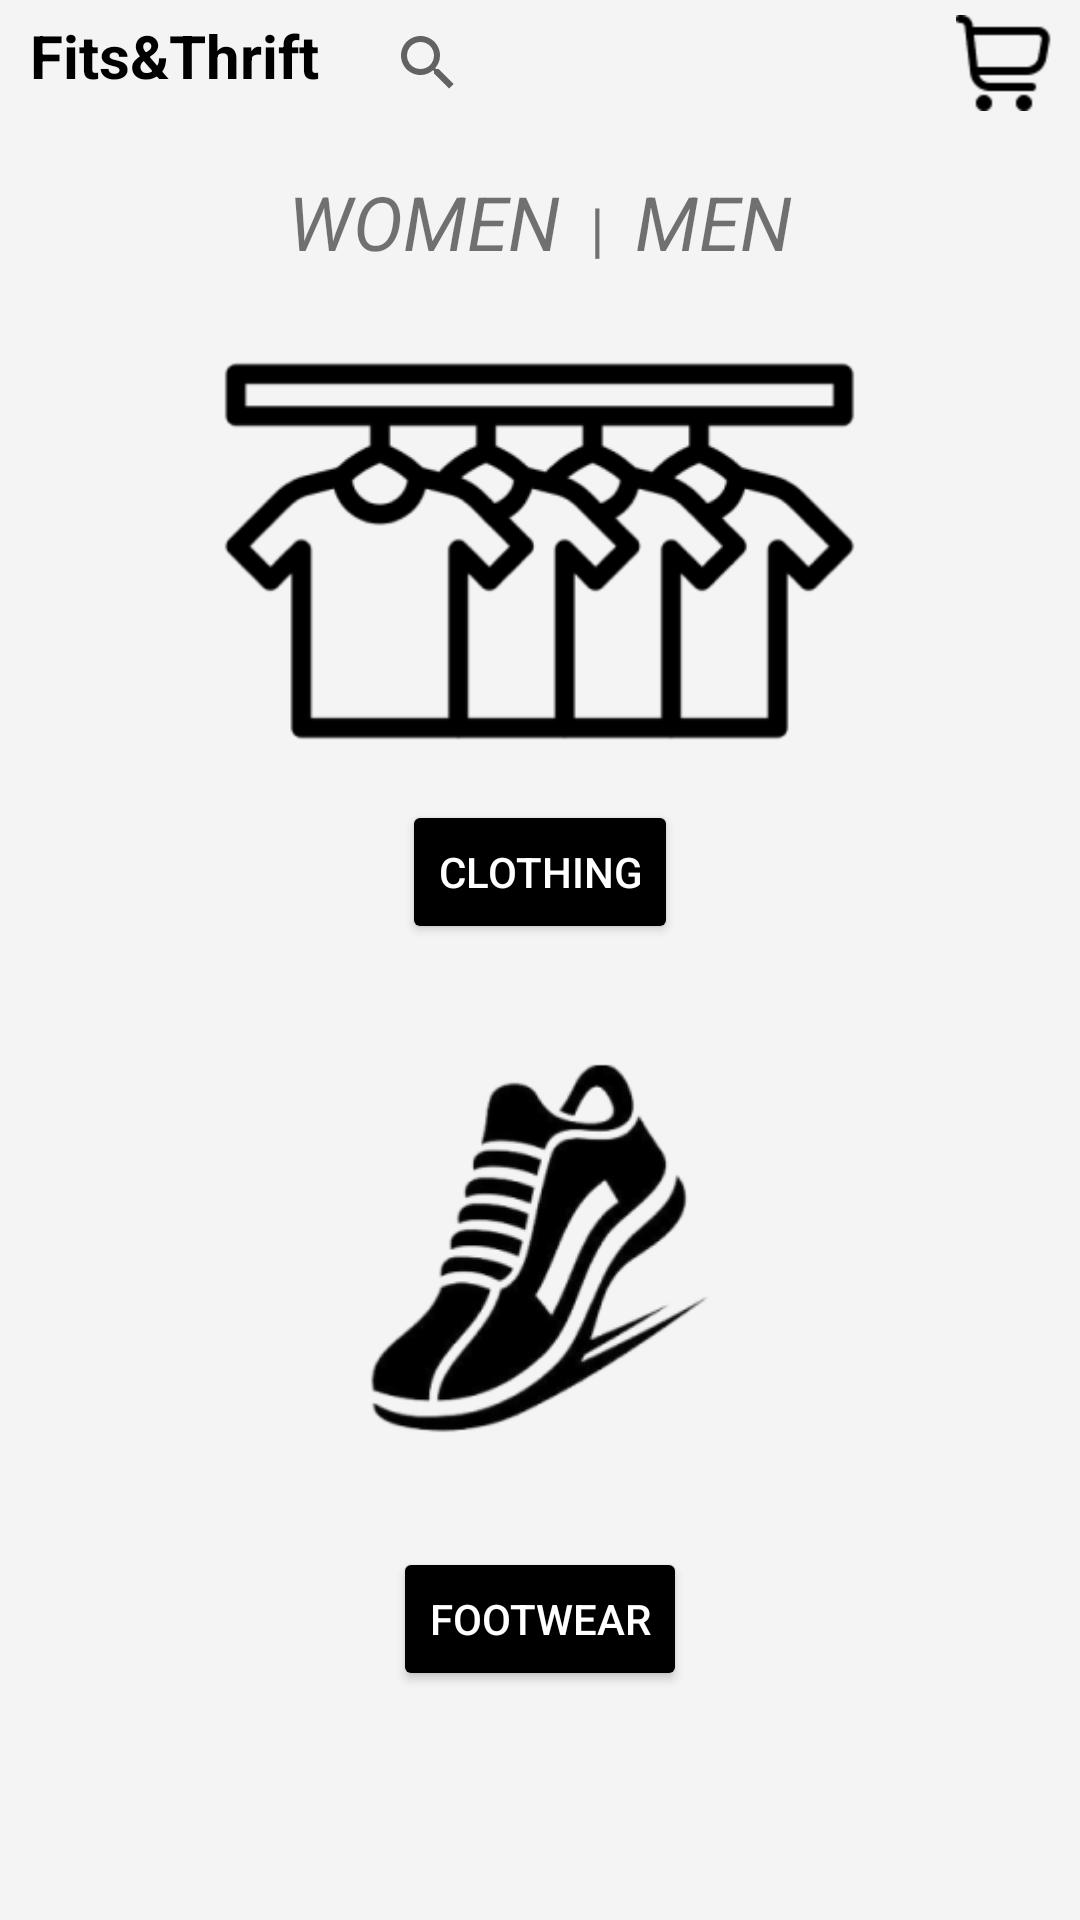

Icon bounding boxes for this 1080 × 1920 phone screenshot, format (x1, y1, x2, y2):
cart notfilled: (956, 15, 1051, 111)
